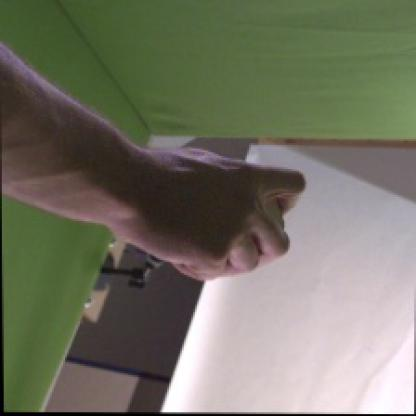Hand: (131, 147, 306, 281)
